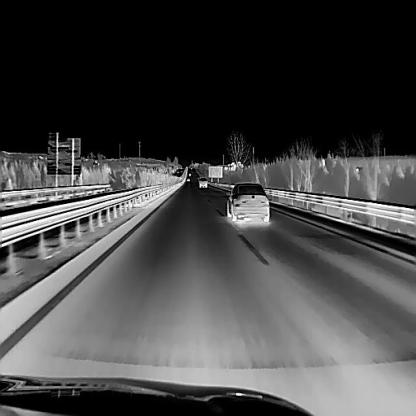car: (225, 181, 269, 221)
truck: (198, 175, 206, 187)
